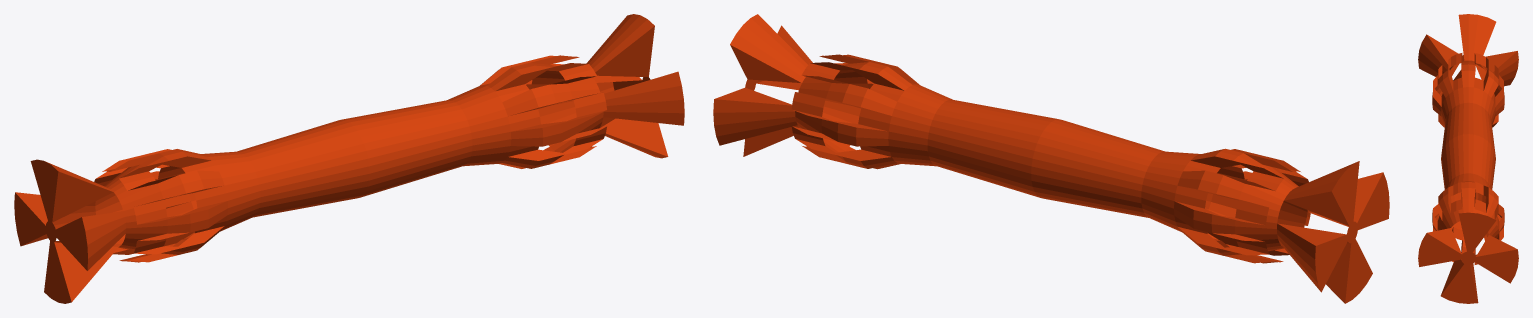
File: Paddle.fbx
The picture shows the model from 3 angles, left to right: view 1: azimuth 30°, elevation 25°; view 2: azimuth 150°, elevation 25°; view 3: azimuth 270°, elevation 25°; orthographic projection. The views are drawn at different scales.
Parts seen in each view (by area): view 1: Cylinder; view 2: Cylinder; view 3: Cylinder.
Part boxes in pixels (x1,y1,x2,y2): Cylinder: [14, 14, 684, 303]; Cylinder: [713, 14, 1389, 303]; Cylinder: [1418, 14, 1518, 303].
Size of the model in its own units: 1709 by 367 by 367.
